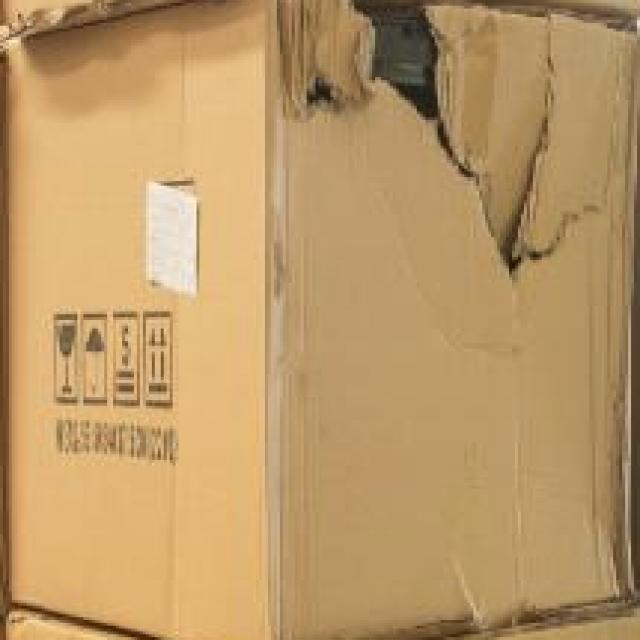hole: (298, 5, 586, 274)
